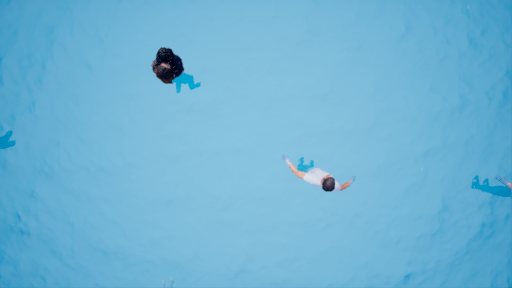person: (283, 154, 363, 202), (151, 38, 203, 97)
